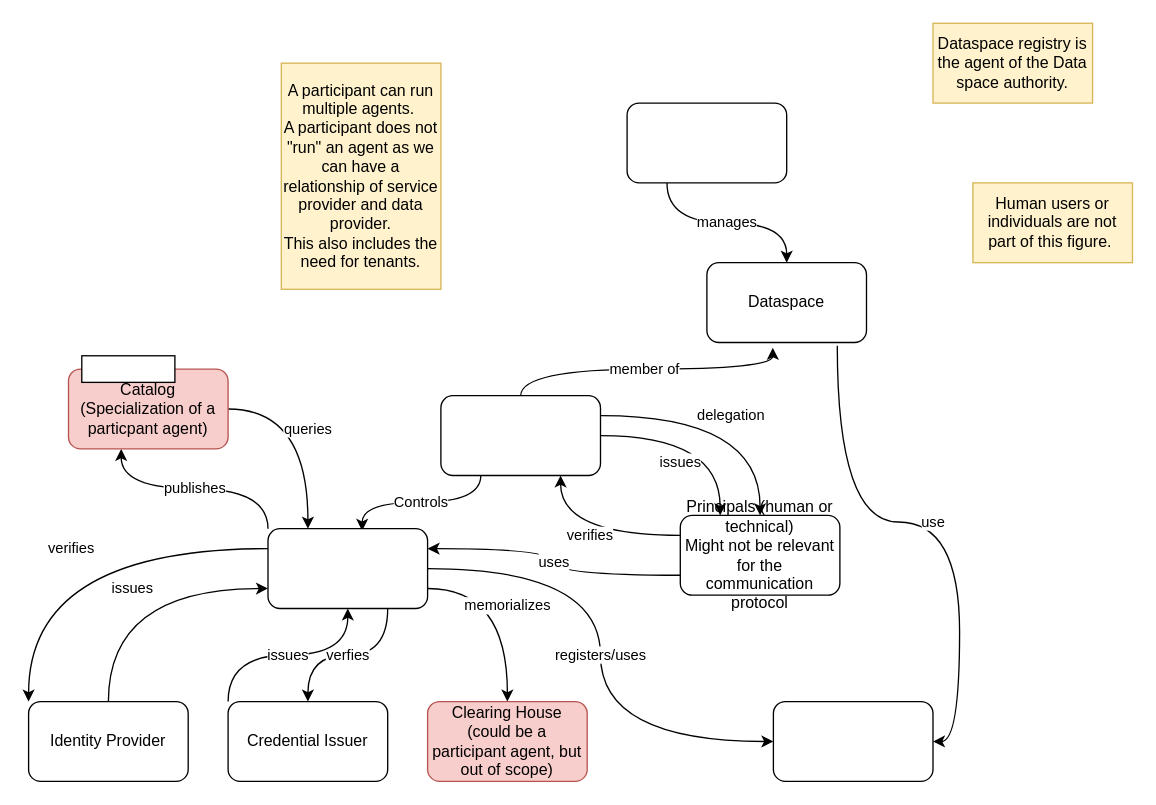
Some shapes in this 1156 by 805 pixel diagram are drawn without their labels. Here are the shapes that lost their labels. From the top down, the centre of each, then its label:
At (x=706, y=142): "Data Space Authority".
At (x=127, y=368): "optional".
At (x=520, y=434): "Participant (org)".
At (x=347, y=567): "Participant Agent (Connector)".
At (x=852, y=740): "Dataspace registry".
